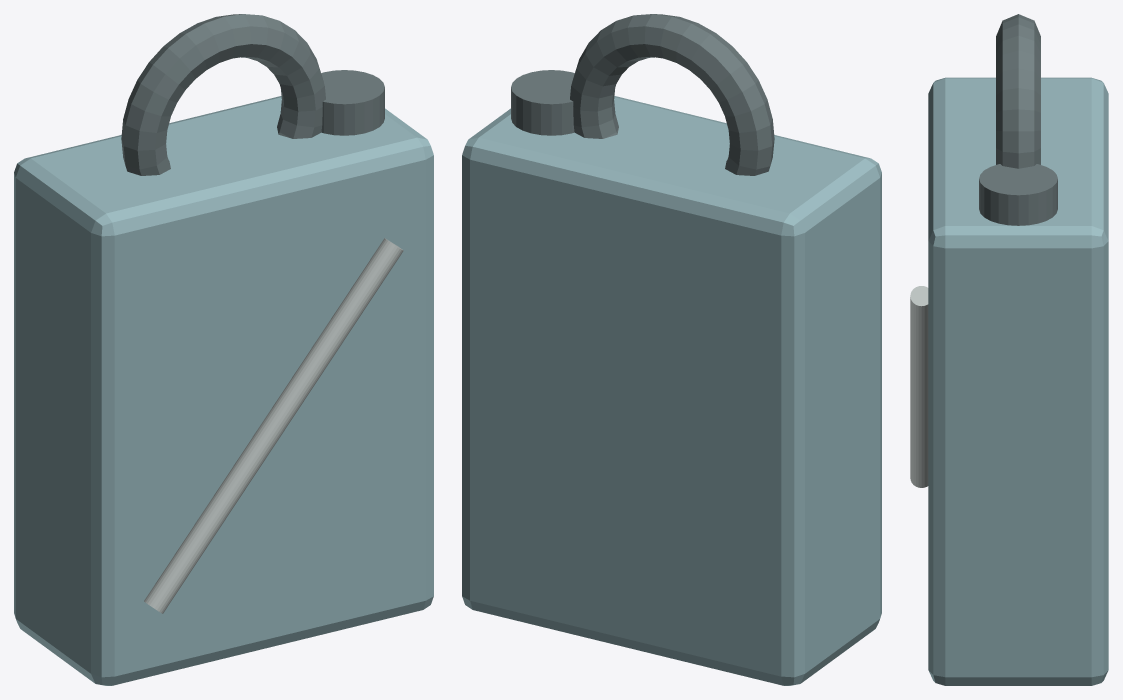
3 views of the same model, side by side, from view 1: azimuth 30°, elevation 25°; view 2: azimuth 150°, elevation 25°; view 3: azimuth 270°, elevation 25° (orthographic). The views are drawn at different scales.
Visible parts, largest first — view 1: jerrycan, carry grip, pressed rib, cap; view 2: jerrycan, carry grip, cap; view 3: jerrycan, carry grip, cap, pressed rib.
Boxes of the visible parts, x1=… form: jerrycan: x1=14, y1=96, x2=433, y2=685; carry grip: x1=121, y1=14, x2=325, y2=175; pressed rib: x1=144, y1=238, x2=403, y2=613; cap: x1=321, y1=70, x2=384, y2=135; jerrycan: x1=462, y1=96, x2=881, y2=685; carry grip: x1=570, y1=14, x2=774, y2=175; cap: x1=511, y1=70, x2=574, y2=135; jerrycan: x1=928, y1=77, x2=1108, y2=685; carry grip: x1=996, y1=14, x2=1040, y2=168; cap: x1=979, y1=164, x2=1057, y2=225; pressed rib: x1=910, y1=286, x2=928, y2=487.
Bounding box in the file's own units: 0.34 × 0.575 × 0.176.
